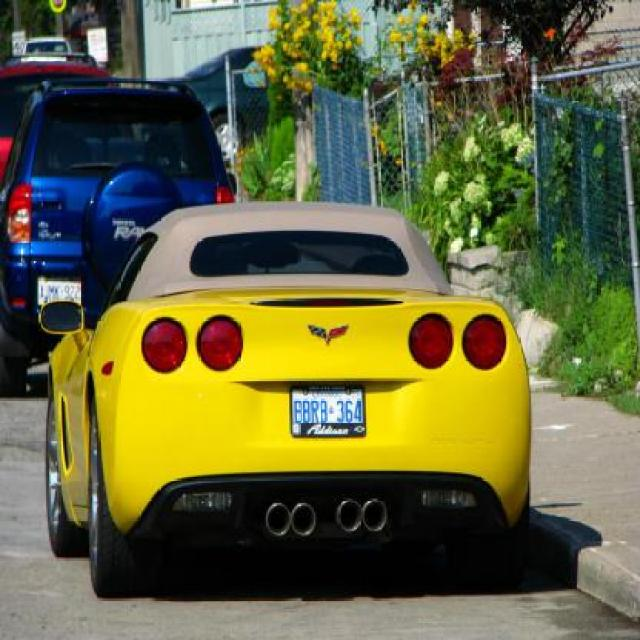License-Plates: (286, 384, 368, 442), (34, 268, 86, 311)
